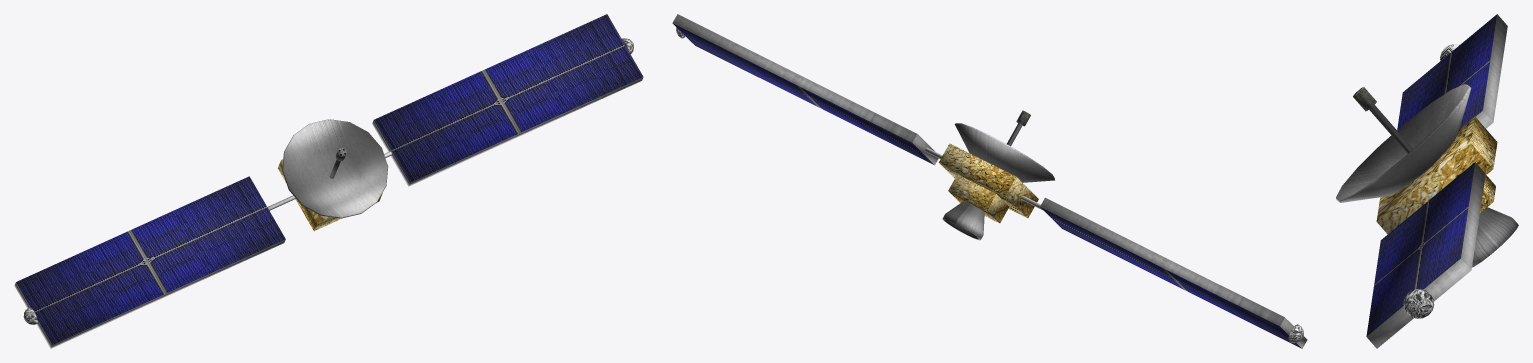
File: SpaceShip8.obj
3 renders of one model, left to right at view 1: azimuth 30°, elevation 25°; view 2: azimuth 150°, elevation 25°; view 3: azimuth 270°, elevation 25°, orthographic. The views are drawn at different scales.
Parts seen in each view (by area): view 1: satellite_sep6_default2; view 2: satellite_sep6_default2; view 3: satellite_sep6_default2.
Part boxes in pixels (bbox=[...]): satellite_sep6_default2: bbox=[14, 14, 643, 348]; satellite_sep6_default2: bbox=[672, 14, 1307, 348]; satellite_sep6_default2: bbox=[1336, 14, 1518, 348].
Size of the model in its own units: 8.78 by 2.6 by 1.42.
